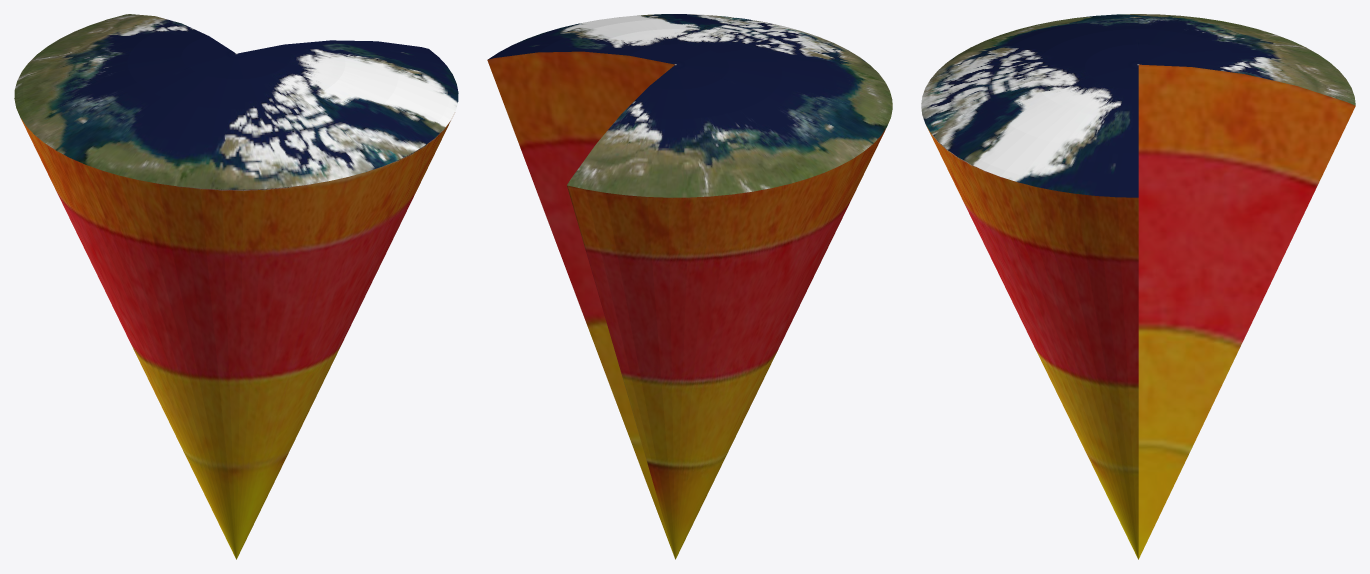
File: 3_Hemi_norte_high.glb
3 views of the same model, side by side, from view 1: azimuth 30°, elevation 25°; view 2: azimuth 150°, elevation 25°; view 3: azimuth 270°, elevation 25° (orthographic). The views are drawn at different scales.
Parts seen in each view (by area): view 1: Hemi_norte_high; view 2: Hemi_norte_high; view 3: Hemi_norte_high.
Part boxes in pixels (x1,y1,x2,y2): Hemi_norte_high: (14, 14, 458, 559); Hemi_norte_high: (487, 14, 892, 559); Hemi_norte_high: (921, 14, 1355, 559).
Size of the model in its own units: 3.98 by 5 by 3.98.
2 materials, 2 textured.
